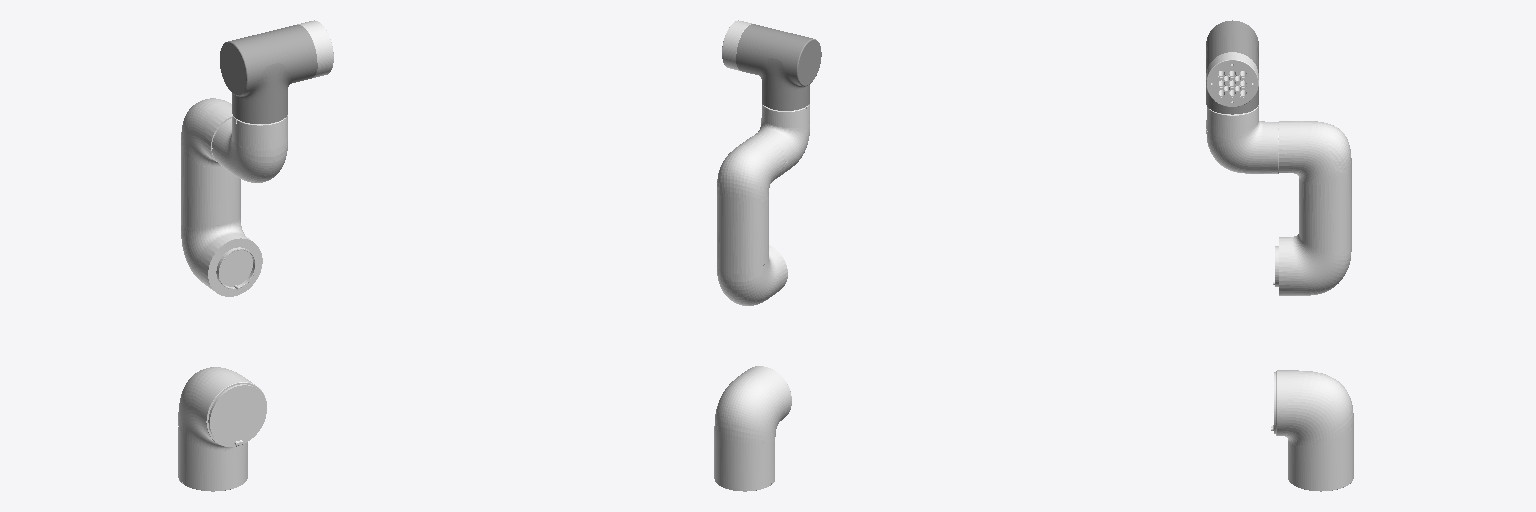
URDF robot description (mycobot_280_jn):
<?xml version="1.0"?>
<robot name="mycobot_280_jn">
  <link name="world"/>
  <joint name="world_to_g_base" type="fixed"><parent link="world"/><child link="g_base"/><origin xyz="0 0 0" rpy="0 0 0"/></joint>

  <link name="g_base">
    <visual>
      <geometry><mesh filename="package://positronic_description/urdf/mycobot_280_jn_sim/meshes/visual/g_base.dae"/></geometry>
    </visual>
    <collision>
      <geometry><mesh filename="package://positronic_description/urdf/mycobot_280_jn_sim/meshes/collision/g_base.stl"/></geometry>
    </collision>
    <inertial>
      <origin xyz="0.000004 0.000000 0.016000" rpy="0 0 0"/>
      <mass value="0.18415"/>
      <inertia ixx="3.5748e-04" ixy="5.8017e-10" ixz="1.5028e-14" iyy="1.9952e-04" iyz="-4.0912e-09" izz="5.2559e-04"/>
    </inertial>
  </link>
  <joint name="g_base_to_joint1" type="fixed"><parent link="g_base"/><child link="joint1"/><origin xyz="0 0 0.0320" rpy="0 0 0"/></joint>

  <link name="joint1">
    <visual>
      <geometry><mesh filename="package://positronic_description/urdf/mycobot_280_jn_sim/meshes/visual/joint1.dae"/></geometry>
    </visual>
    <collision>
      <geometry><mesh filename="package://positronic_description/urdf/mycobot_280_jn_sim/meshes/collision/joint1.stl"/></geometry>
    </collision>
    <inertial>
      <origin xyz="-0.000007 -0.000080 0.049738" rpy="0 0 0"/>
      <mass value="0.50875"/>
      <inertia ixx="1.2317e-03" ixy="6.9182e-09" ixz="-6.2406e-08" iyy="9.2410e-04" iyz="1.1339e-06" izz="1.1863e-03"/>
    </inertial>
  </link>
  <link name="joint2">
    <visual>
      <geometry><mesh filename="package://positronic_description/urdf/mycobot_280_jn_sim/meshes/visual/joint2.dae"/></geometry>
    </visual>
    <collision>
      <geometry><mesh filename="package://positronic_description/urdf/mycobot_280_jn_sim/meshes/collision/joint2.stl"/></geometry>
    </collision>
    <inertial>
      <origin xyz="-0.000000 -0.006642 -0.021543" rpy="0 0 0"/>
      <mass value="0.06376"/>
      <inertia ixx="4.6518e-05" ixy="-1.4217e-10" ixz="4.0220e-11" iyy="4.1988e-05" iyz="5.2079e-06" izz="2.3962e-05"/>
    </inertial>
  </link>
  <link name="joint3">
    <visual>
      <geometry><mesh filename="package://positronic_description/urdf/mycobot_280_jn_sim/meshes/visual/joint3.dae"/></geometry>
    </visual>
    <collision>
      <geometry><mesh filename="package://positronic_description/urdf/mycobot_280_jn_sim/meshes/collision/joint3.stl"/></geometry>
    </collision>
    <inertial>
      <origin xyz="-0.054329 -0.000001 0.055329" rpy="0 0 0"/>
      <mass value="0.11283"/>
      <inertia ixx="4.0982e-05" ixy="-4.4556e-09" ixz="-7.0957e-07" iyy="2.1152e-04" iyz="-8.7142e-10" izz="2.0504e-04"/>
    </inertial>
  </link>
  <link name="joint4">
    <visual>
      <geometry><mesh filename="package://positronic_description/urdf/mycobot_280_jn_sim/meshes/visual/joint4.dae"/></geometry>
    </visual>
    <collision>
      <geometry><mesh filename="package://positronic_description/urdf/mycobot_280_jn_sim/meshes/collision/joint4.stl"/></geometry>
    </collision>
    <inertial>
      <origin xyz="-0.045854 0.000000 0.007555" rpy="0 0 0"/>
      <mass value="0.08998"/>
      <inertia ixx="3.0322e-05" ixy="2.4186e-09" ixz="-2.9578e-06" iyy="1.3482e-04" iyz="1.3086e-09" izz="1.2647e-04"/>
    </inertial>
  </link>
  <link name="joint5">
    <visual>
      <geometry><mesh filename="package://positronic_description/urdf/mycobot_280_jn_sim/meshes/visual/joint5.dae"/></geometry>
    </visual>
    <collision>
      <geometry><mesh filename="package://positronic_description/urdf/mycobot_280_jn_sim/meshes/collision/joint5.stl"/></geometry>
    </collision>
    <inertial>
      <origin xyz="0.000001 -0.009519 -0.008481" rpy="0 0 0"/>
      <mass value="0.02887"/>
      <inertia ixx="1.1107e-05" ixy="2.2157e-10" ixz="1.0327e-10" iyy="8.0087e-06" iyz="1.5831e-06" izz="8.7282e-06"/>
    </inertial>
  </link>
  <link name="joint6">
    <visual>
      <geometry><mesh filename="package://positronic_description/urdf/mycobot_280_jn_sim/meshes/visual/joint6.dae"/></geometry>
    </visual>
    <collision>
      <geometry><mesh filename="package://positronic_description/urdf/mycobot_280_jn_sim/meshes/collision/joint6.stl"/></geometry>
    </collision>
    <inertial>
      <origin xyz="-0.000000 0.005619 -0.009142" rpy="0 0 0"/>
      <mass value="0.03611"/>
      <inertia ixx="1.6575e-05" ixy="1.3007e-11" ixz="9.1115e-11" iyy="1.1852e-05" iyz="-8.2298e-07" izz="1.2374e-05"/>
    </inertial>
  </link>
  <link name="joint6_flange">
    <visual>
      <geometry><mesh filename="package://positronic_description/urdf/mycobot_280_jn_sim/meshes/visual/joint6_flange.dae"/></geometry>
    </visual>
    <collision>
      <geometry><mesh filename="package://positronic_description/urdf/mycobot_280_jn_sim/meshes/collision/joint6_flange.stl"/></geometry>
    </collision>
    <inertial>
      <origin xyz="-0.000000 -0.000000 -0.005150" rpy="0 0 0"/>
      <mass value="0.00556"/>
      <inertia ixx="5.9851e-07" ixy="-5.1008e-24" ixz="1.4442e-24" iyy="5.9851e-07" iyz="-7.4388e-16" izz="1.0234e-06"/>
    </inertial>
  </link>
  <joint name="joint2_to_joint1" type="revolute">
    <parent link="joint1"/><child link="joint2"/>
    <origin xyz="0 0 0.15756" rpy="0 0 0"/>
    <axis xyz="0 0 1"/>
    <limit effort="10.0" lower="-2.9321" upper="2.9321" velocity="2.618"/>
    <dynamics damping="0.1" friction="0.01"/>
  </joint>
  <joint name="joint3_to_joint2" type="revolute">
    <parent link="joint2"/><child link="joint3"/>
    <origin xyz="0 0 -0.001" rpy="0 1.5708 -1.5708"/>
    <axis xyz="0 0 1"/>
    <limit effort="10.0" lower="-2.4434" upper="2.4434" velocity="2.618"/>
    <dynamics damping="0.1" friction="0.01"/>
  </joint>
  <joint name="joint4_to_joint3" type="revolute">
    <parent link="joint3"/><child link="joint4"/>
    <origin xyz="-0.1104 0 0" rpy="0 0 0"/>
    <axis xyz="0 0 1"/>
    <limit effort="10.0" lower="-2.6179" upper="2.6179" velocity="2.618"/>
    <dynamics damping="0.1" friction="0.01"/>
  </joint>
  <joint name="joint5_to_joint4" type="revolute">
    <parent link="joint4"/><child link="joint5"/>
    <origin xyz="-0.096 0 0.06462" rpy="0 0 -1.5708"/>
    <axis xyz="0 0 1"/>
    <limit effort="10.0" lower="-2.6179" upper="2.6179" velocity="2.618"/>
    <dynamics damping="0.1" friction="0.01"/>
  </joint>
  <joint name="joint6_to_joint5" type="revolute">
    <parent link="joint5"/><child link="joint6"/>
    <origin xyz="0 -0.07318 0" rpy="1.5708 -1.5708 0"/>
    <axis xyz="0 0 1"/>
    <limit effort="10.0" lower="-2.7052" upper="2.7925" velocity="2.618"/>
    <dynamics damping="0.1" friction="0.01"/>
  </joint>
  <joint name="joint6output_to_joint6" type="revolute">
    <parent link="joint6"/><child link="joint6_flange"/>
    <origin xyz="0 0.0456 0" rpy="-1.5708 0.7854 0"/>
    <axis xyz="0 0 1"/>
    <limit effort="10.0" lower="-3.14159" upper="3.14159" velocity="2.618"/>
    <dynamics damping="0.1" friction="0.01"/>
  </joint>

  <gazebo reference="joint2"><turnGravityOff>true</turnGravityOff></gazebo>
  <gazebo reference="joint3"><turnGravityOff>true</turnGravityOff></gazebo>
  <gazebo reference="joint4"><turnGravityOff>true</turnGravityOff></gazebo>
  <gazebo reference="joint5"><turnGravityOff>true</turnGravityOff></gazebo>
  <gazebo reference="joint6"><turnGravityOff>true</turnGravityOff></gazebo>
  <gazebo reference="joint6_flange"><turnGravityOff>true</turnGravityOff></gazebo>
</robot>

--- Render facts (derived) ---
The picture shows the robot from 3 angles, left to right: view 1: azimuth 30°, elevation 25°; view 2: azimuth 150°, elevation 25°; view 3: azimuth 270°, elevation 25°; orthographic projection.
Robot: mycobot_280_jn — 9 links, 8 joints (6 revolute, 2 fixed); root link world; default pose: every joint at zero.
Links seen in each view (by area): view 1: joint4, joint2, joint6, joint5, joint6_flange; view 2: joint4, joint2, joint6, joint5, joint6_flange; view 3: joint4, joint2, joint5, joint6_flange, joint6.
Link boxes in pixels (bbox=[...]): joint4: bbox=[181, 98, 262, 296]; joint2: bbox=[178, 367, 266, 491]; joint6: bbox=[220, 25, 317, 123]; joint5: bbox=[212, 115, 287, 182]; joint6_flange: bbox=[297, 20, 333, 77]; joint4: bbox=[717, 135, 787, 305]; joint2: bbox=[714, 366, 791, 491]; joint6: bbox=[736, 24, 821, 110]; joint5: bbox=[755, 104, 809, 176]; joint6_flange: bbox=[722, 20, 751, 70]; joint4: bbox=[1273, 121, 1351, 295]; joint2: bbox=[1271, 370, 1353, 491]; joint5: bbox=[1206, 105, 1278, 173]; joint6_flange: bbox=[1206, 52, 1258, 106]; joint6: bbox=[1206, 20, 1258, 114].
Size in the robot's own frame: 0.0713 by 0.1078 by 0.3619 metres.
5 mesh visuals loaded from 8 distinct referenced files (5 Collada DAE); not drawn: 3 (reference not matched to a file when rendering).
